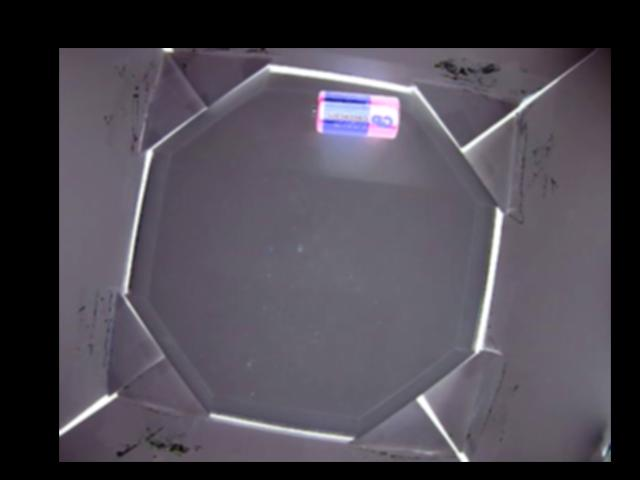Battery: (311, 89, 403, 139)
